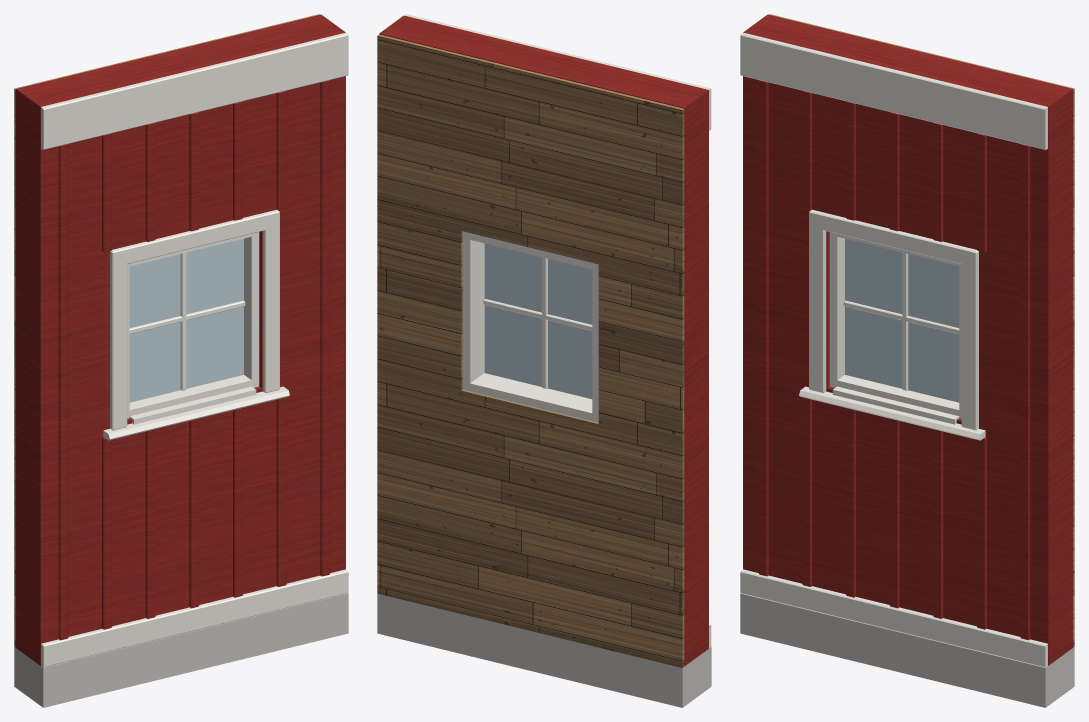
The model's file is barn_wall_window.glb.
3 views of the same model, side by side, from view 1: azimuth 30°, elevation 25°; view 2: azimuth 150°, elevation 25°; view 3: azimuth 330°, elevation 25° (orthographic).
Visible parts, largest first — view 1: barn_wall_window_barn, barn_wall_window_trim, barn_wall_window_glass, barn_wall_window_concrete, barn_wall_window_frame, barn_wall_window_planks; view 2: barn_wall_window_planks, barn_wall_window_barn, barn_wall_window_concrete, barn_wall_window_glass, barn_wall_window_frame, barn_wall_window_trim; view 3: barn_wall_window_barn, barn_wall_window_trim, barn_wall_window_glass, barn_wall_window_concrete, barn_wall_window_frame, barn_wall_window_planks.
Boxes of the visible parts, x1,y1,x2,y2 form: barn_wall_window_barn: (16,14,345,665); barn_wall_window_trim: (41,32,348,667); barn_wall_window_glass: (129,238,243,402); barn_wall_window_concrete: (14,593,348,707); barn_wall_window_frame: (127,232,259,418); barn_wall_window_planks: (14,14,319,647); barn_wall_window_planks: (377,34,684,667); barn_wall_window_barn: (379,15,708,666); barn_wall_window_concrete: (377,593,711,707); barn_wall_window_glass: (484,243,592,398); barn_wall_window_frame: (462,231,598,422); barn_wall_window_trim: (404,14,711,648); barn_wall_window_barn: (743,14,1072,665); barn_wall_window_trim: (740,32,1047,667); barn_wall_window_glass: (845,238,959,402); barn_wall_window_concrete: (740,593,1074,707); barn_wall_window_frame: (829,232,961,418); barn_wall_window_planks: (769,14,1074,647).
Bounding box in the file's own units: 2 × 3.75 × 0.375.
Materials: 6 (2 with a texture image).
